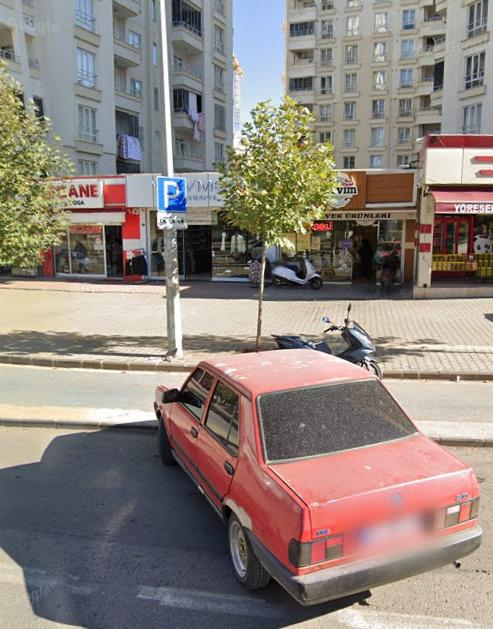park: (156, 176, 188, 212)
